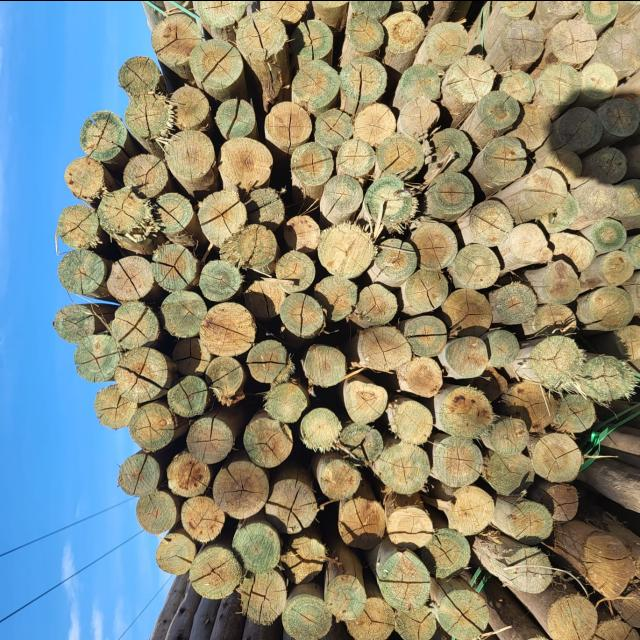package: (50, 1, 604, 630), (492, 0, 640, 378)
